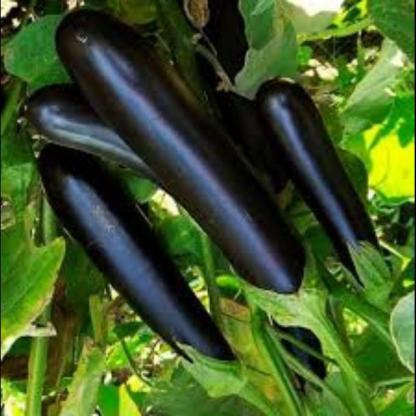eggplant: (2, 14, 331, 302), (32, 158, 262, 416), (253, 76, 401, 304)
